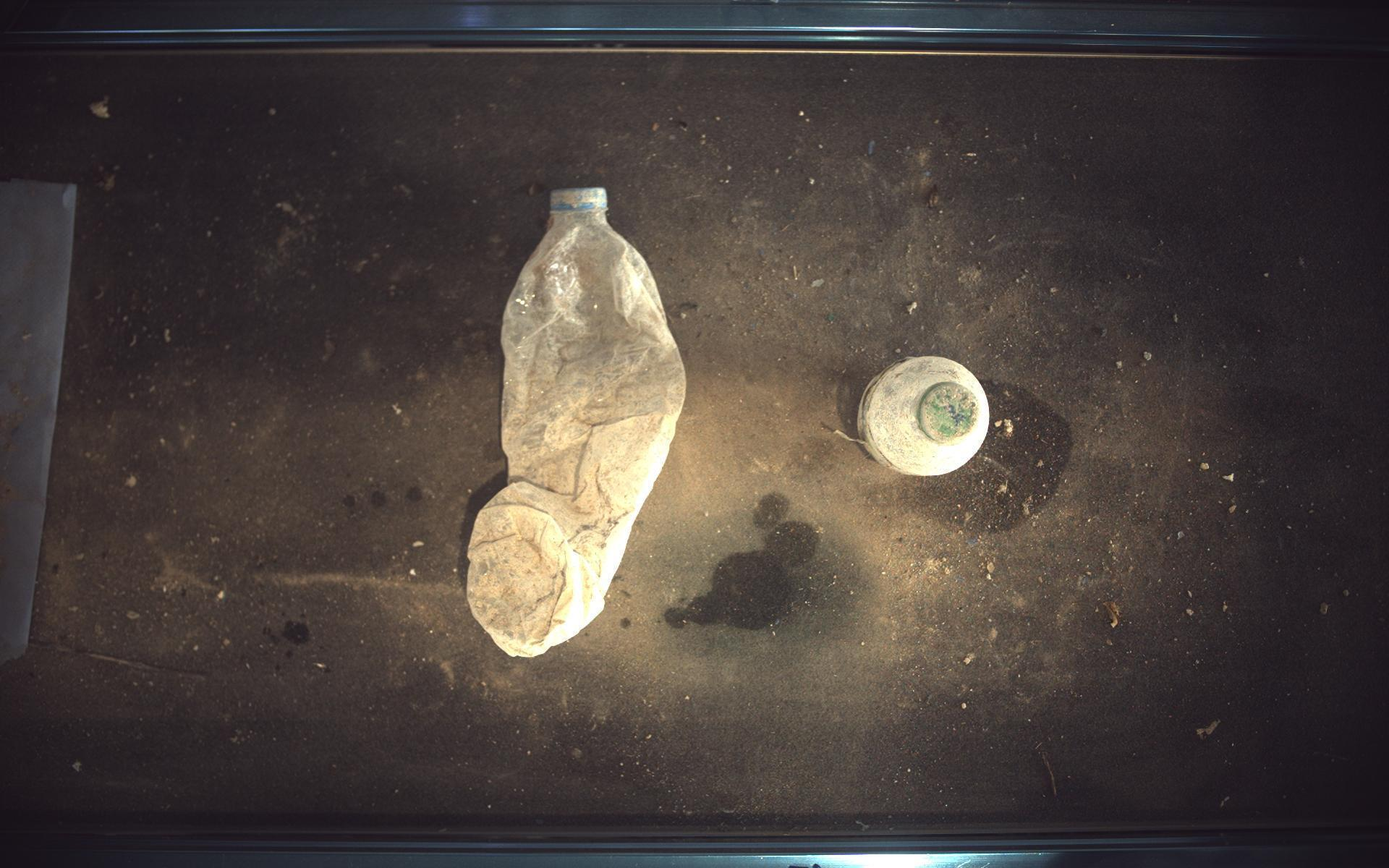general_w: (467, 187, 686, 658), (859, 356, 991, 476)
